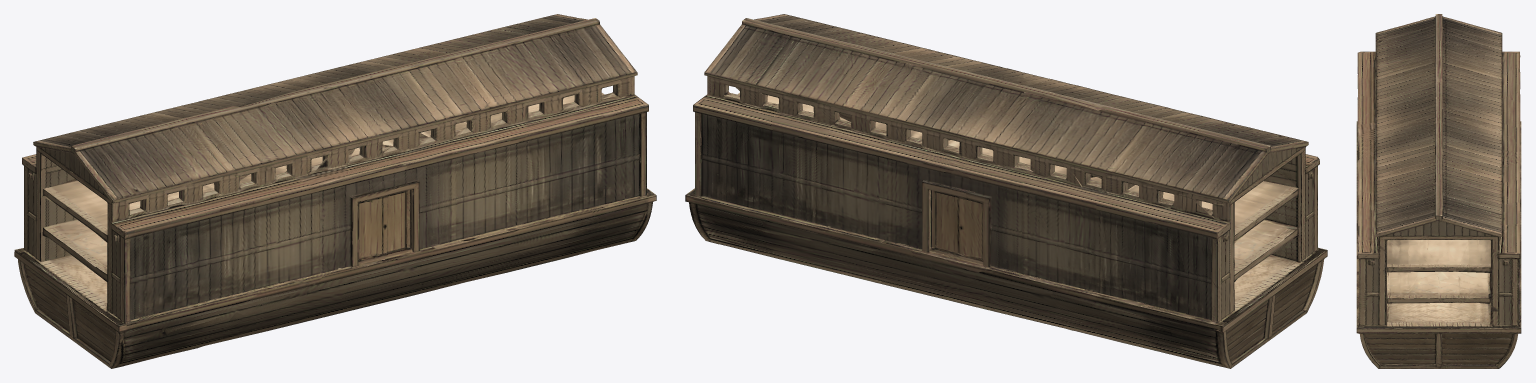
File: noah.glb
3 views of the same model, side by side, from view 1: azimuth 30°, elevation 25°; view 2: azimuth 150°, elevation 25°; view 3: azimuth 270°, elevation 25° (orthographic). The views are drawn at different scales.
Bounding box in the file's own units: 1.9 × 0.6544 × 0.639.
Materials: 1 (1 with a texture image).
